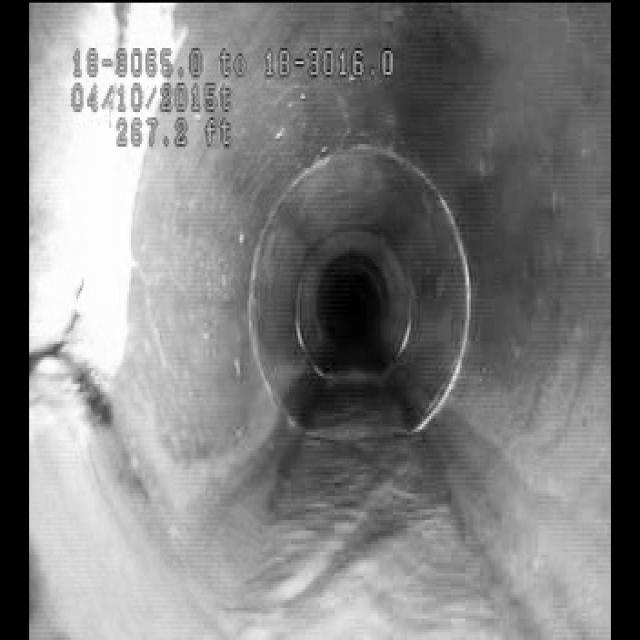Fracture: (34, 256, 144, 452)
